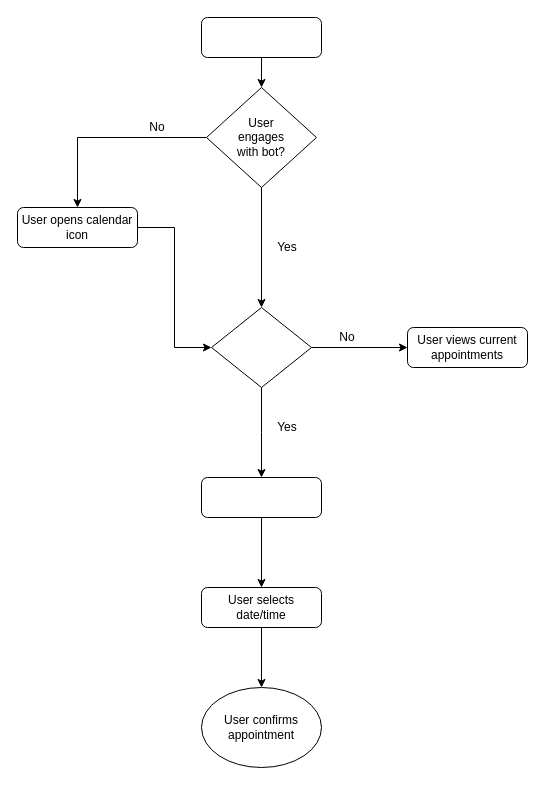
This 545x785 diagram has some shape labels left out. The shapes that lost their labels are listed below. From the top down, each one's centre as x and y in pixels, then its label:
point 261,37: User signs in
point 261,347: New Appointment?
point 261,497: User selects provider
